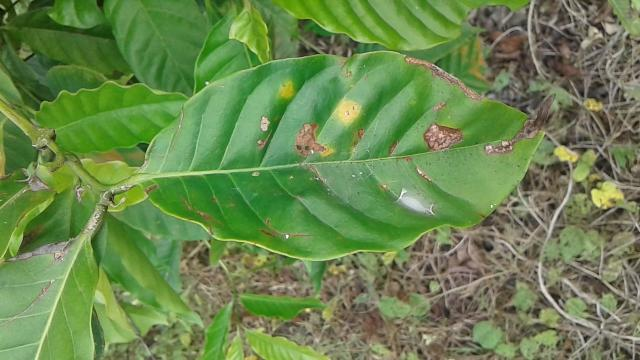rust_level_2: (136, 51, 546, 260)
